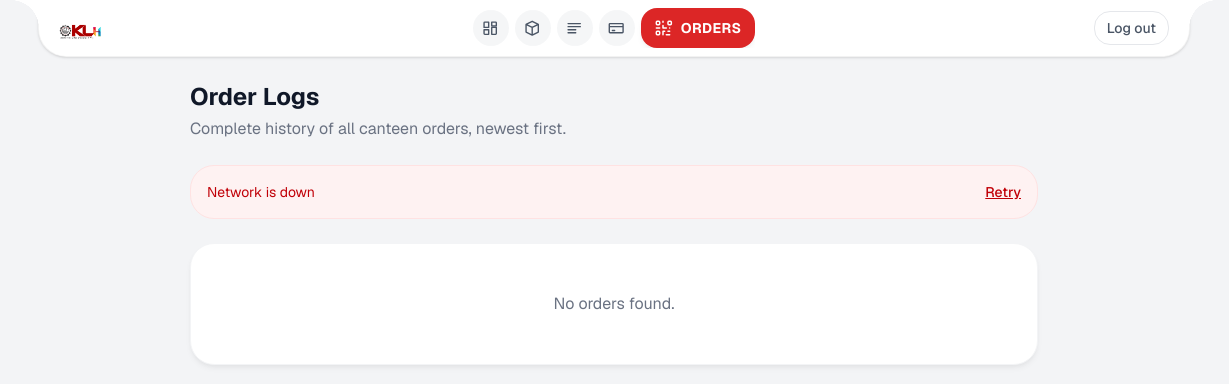
it: surfaces a failed load with a retry instead of an empty page
Expected: the text "Network is down" is shown, left=207, top=182, right=315, bottom=202
What coordinates should you click on to do the following:
click the button "Retry"
I would click on:
 (1003, 192)
Its box is left=985, top=182, right=1021, bottom=202.
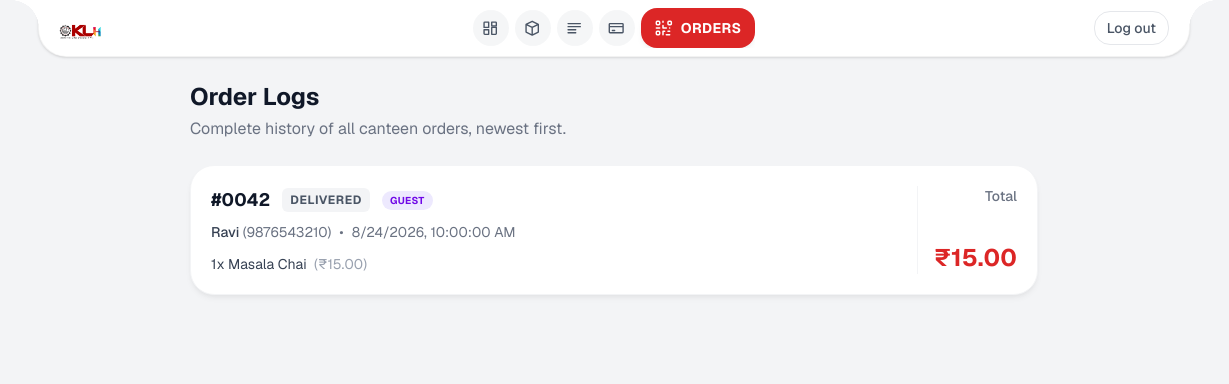
Expected: the text "Ravi" is shown, left=211, top=223, right=239, bottom=241
